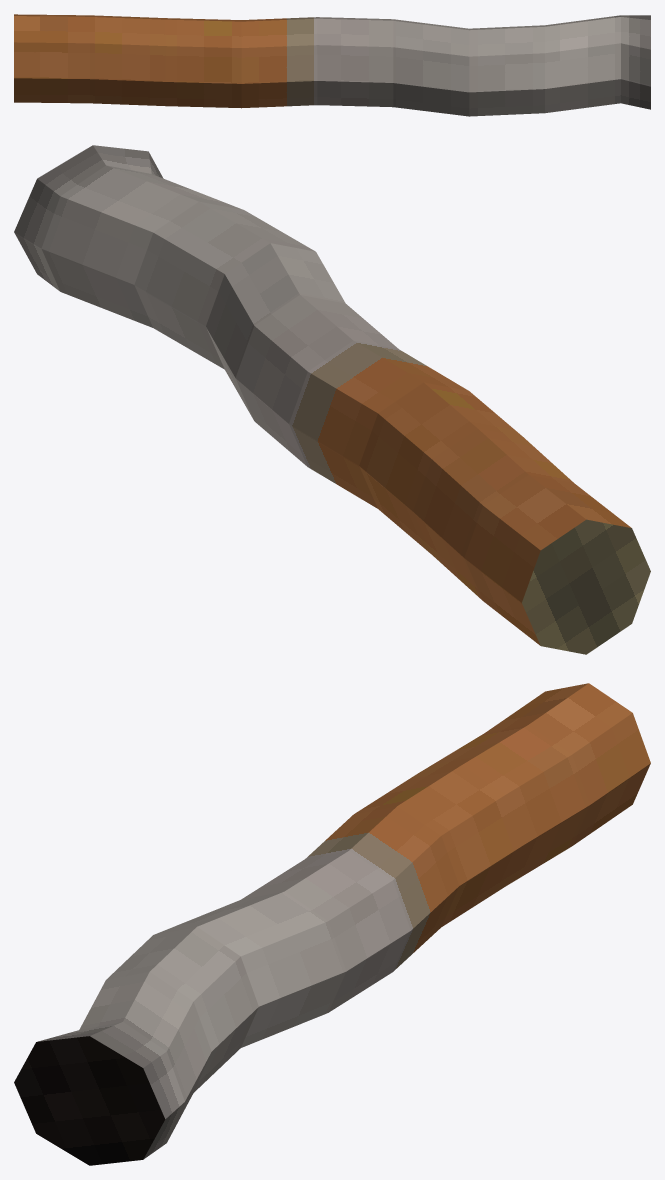
3 views of the same model, one above another, from view 1: azimuth 30°, elevation 25°; view 2: azimuth 150°, elevation 25°; view 3: azimuth 270°, elevation 25° (orthographic). The views are drawn at different scales.
Parts seen in each view (by area): view 1: cig_2; view 2: cig_2; view 3: cig_2.
Part boxes in pixels (x1,y1,x2,y2): cig_2: (14,14,650,116); cig_2: (14,145,650,654); cig_2: (14,683,650,1165).
Size of the model in its own units: 0.0958 by 0.015 by 0.0668.
Materials: 1 (1 with a texture image).
